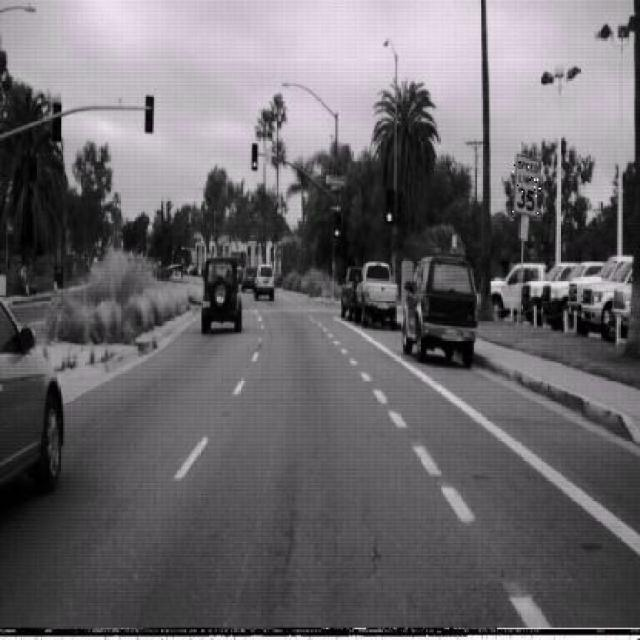speedLimit35: (512, 152, 541, 218)
